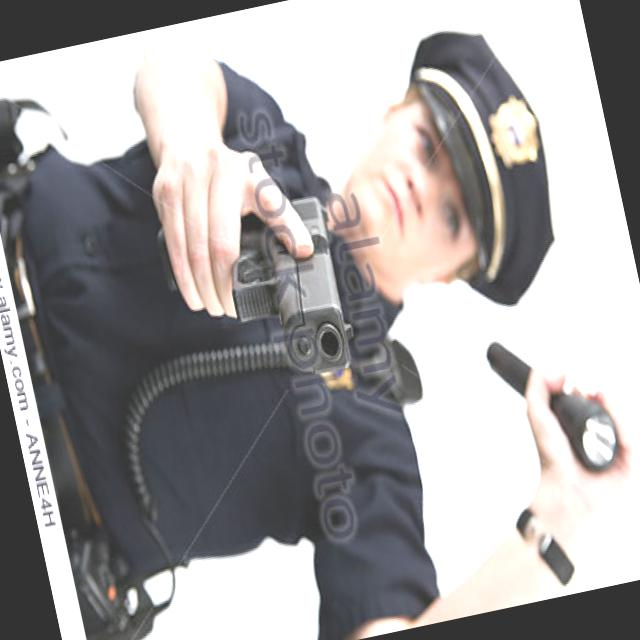handgun: (150, 182, 365, 402)
